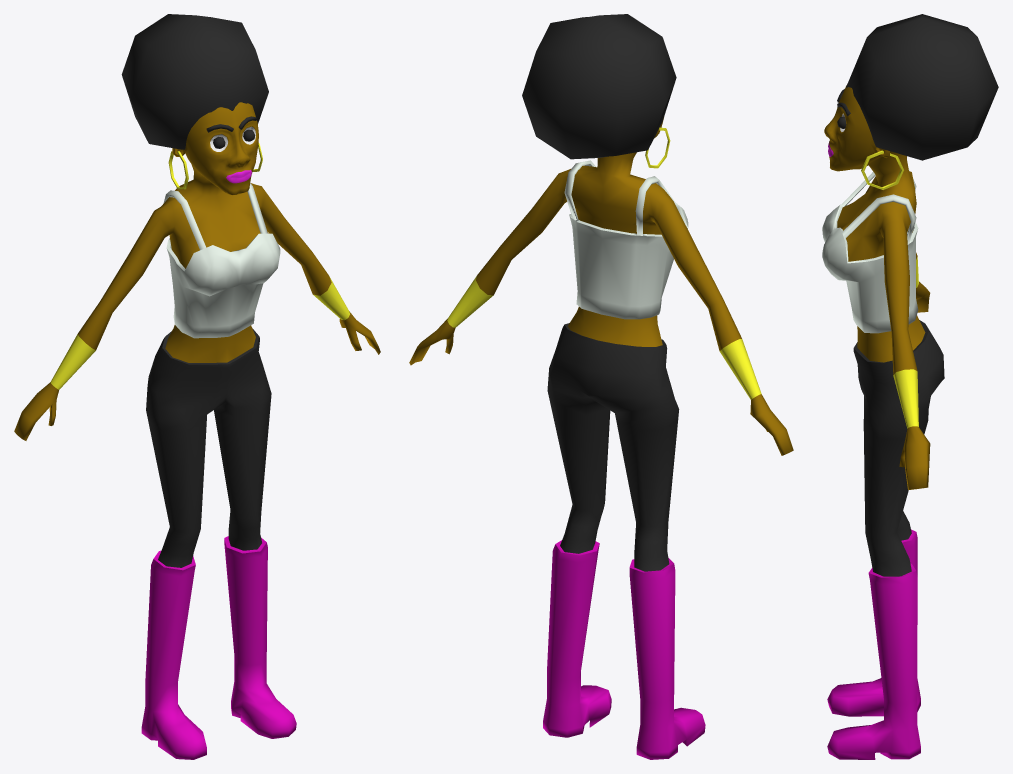
The model's file is Girl_2.fbx.
The picture shows the model from 3 angles, left to right: view 1: azimuth 30°, elevation 25°; view 2: azimuth 150°, elevation 25°; view 3: azimuth 270°, elevation 25°; orthographic projection. The views are drawn at different scales.
Visible parts, largest first — view 1: Girl_2; view 2: Girl_2; view 3: Girl_2.
Part boxes in pixels (bbox=[...]): Girl_2: bbox=[14, 14, 380, 759]; Girl_2: bbox=[409, 14, 793, 759]; Girl_2: bbox=[822, 14, 998, 759].
Size of the model in its own units: 91.88 by 170 by 38.11.
Materials: 1 (1 with a texture image).
